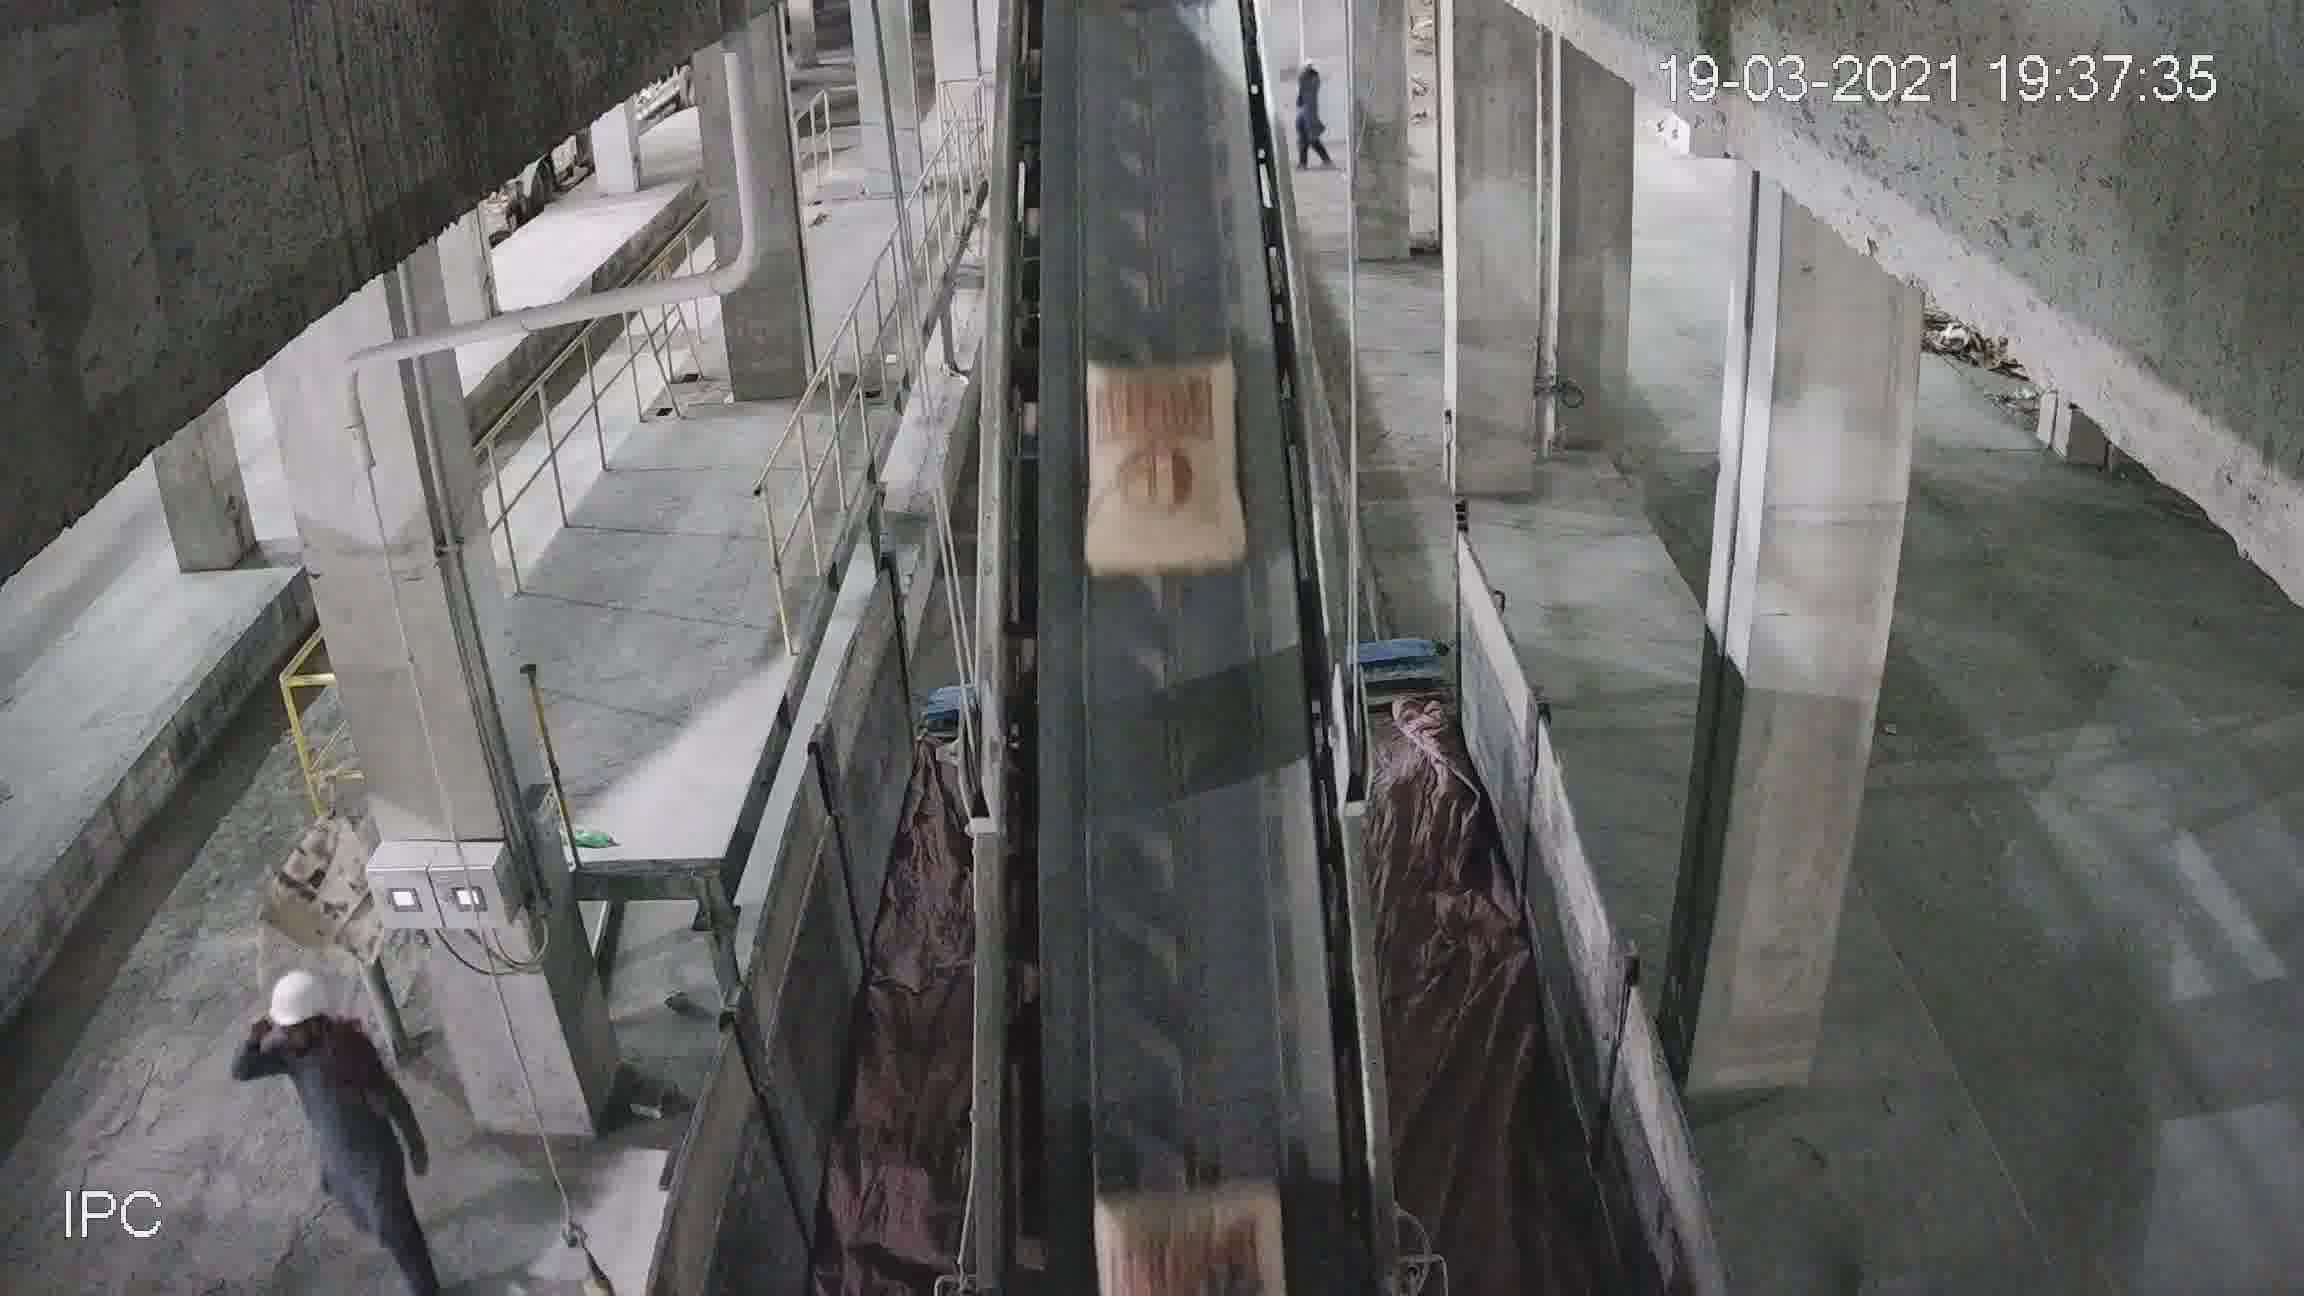bag: (1084, 373, 1239, 562)
belt: (968, 17, 1324, 1124)
